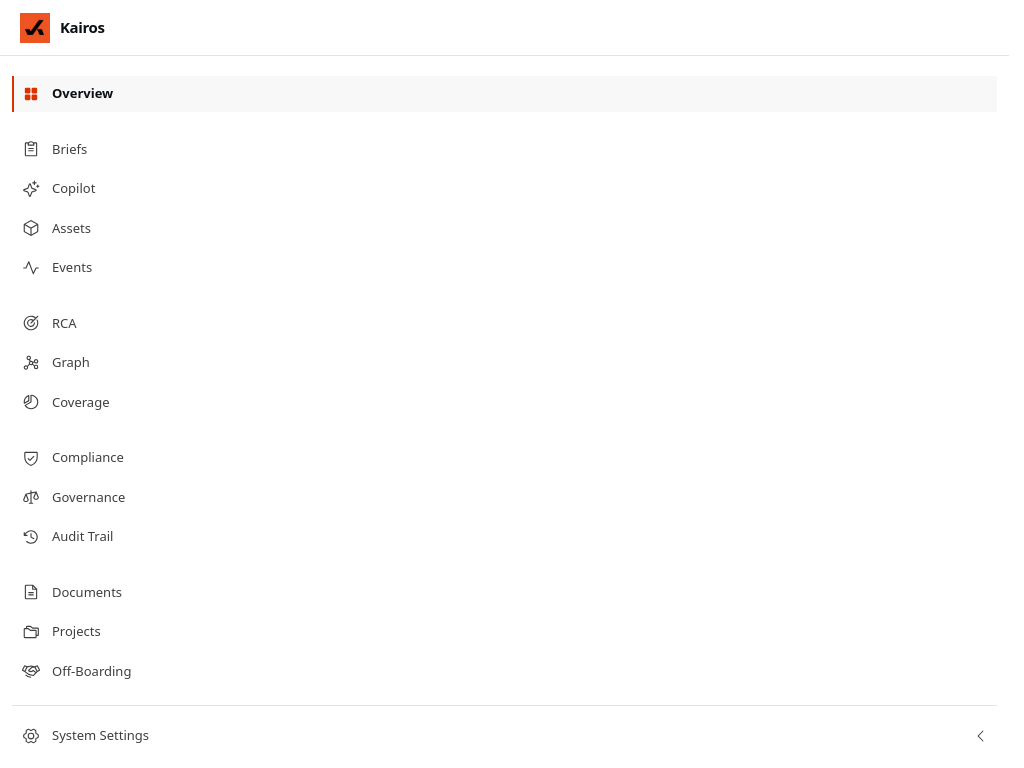
Scenario: nav rail collapse › collapses, persists, and expands again
Click the button named "Collapse navigation". click: (981, 736)
box: [965,720,997,752]
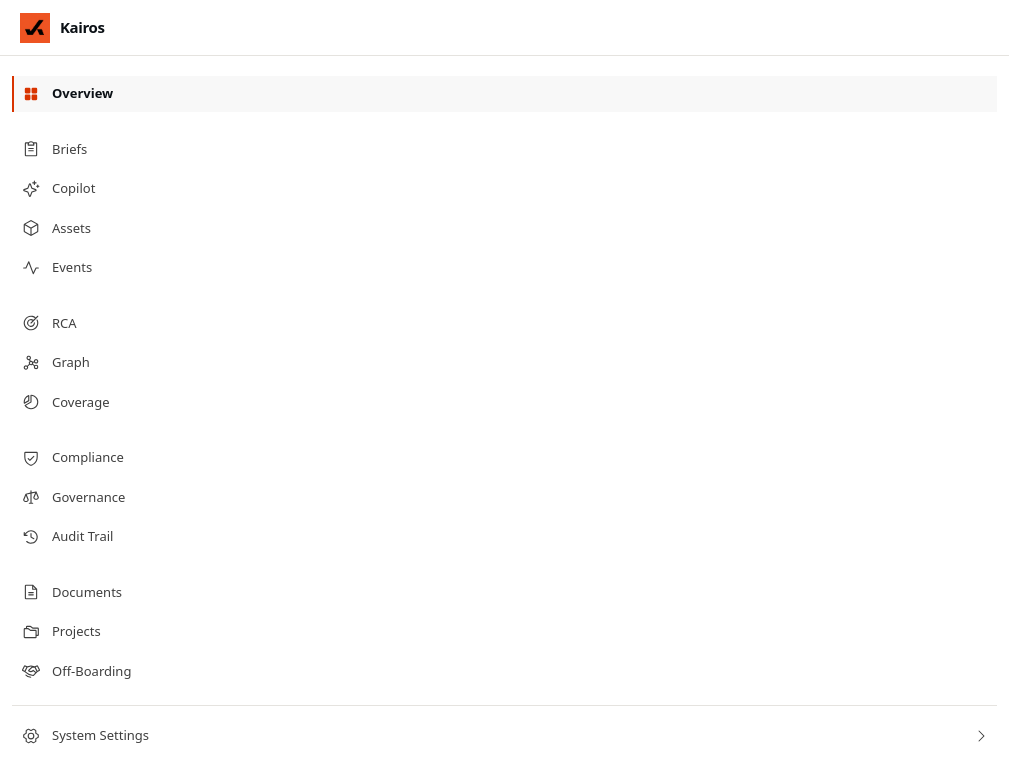
expect the button named "Expand navigation" is collapsed: met
Click the button named "Expand navigation". click: (981, 736)
box: [965,720,997,752]
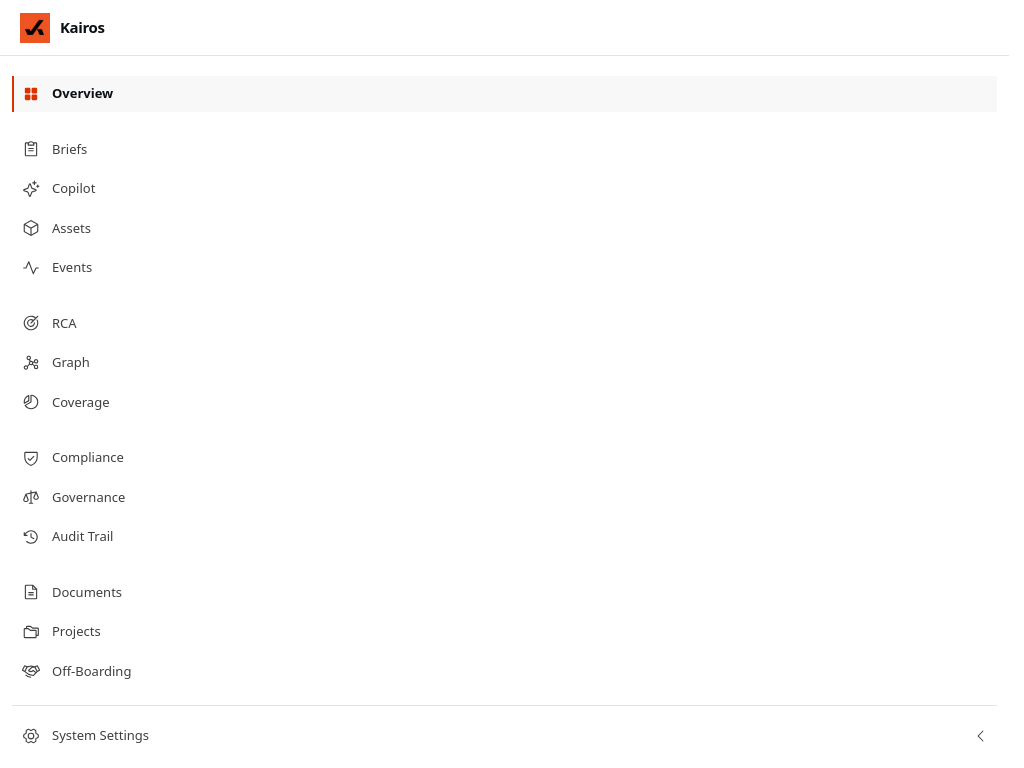
expect the button named "Collapse navigation" is shown: met, box [965,720,997,752]
